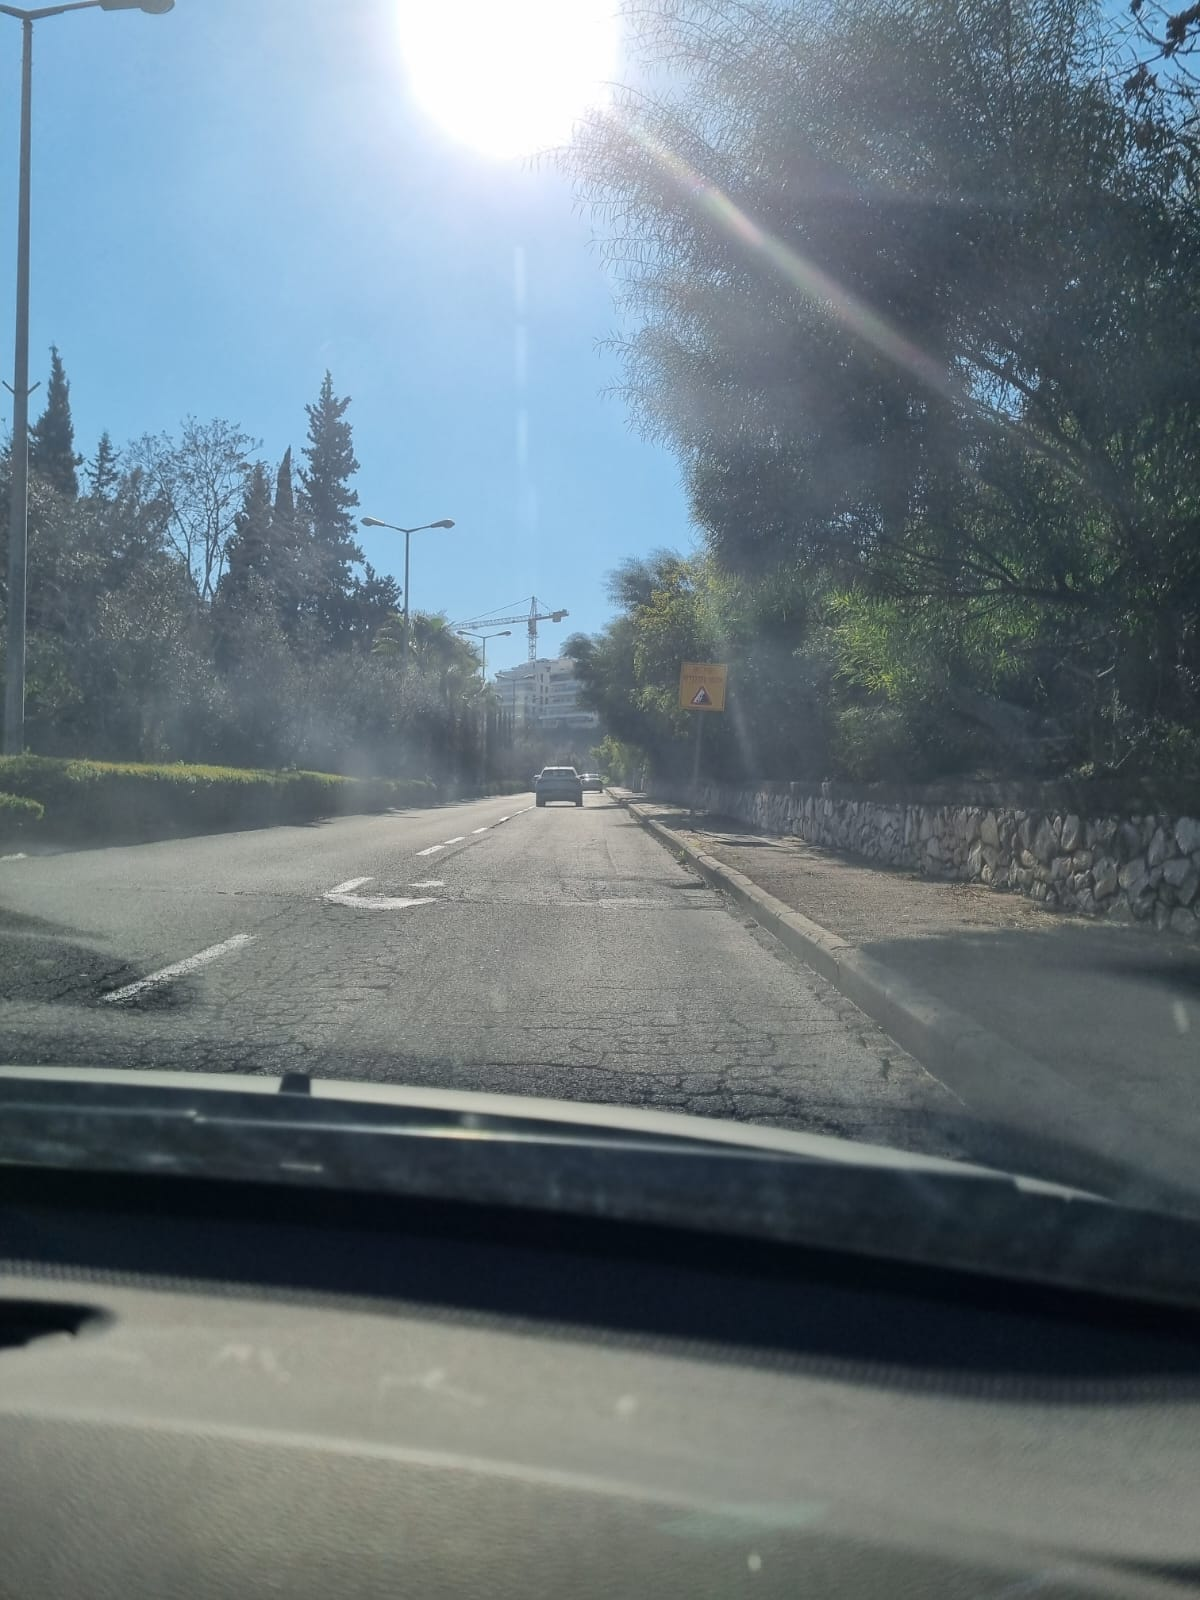medium_pothole: (667, 878, 725, 913)
